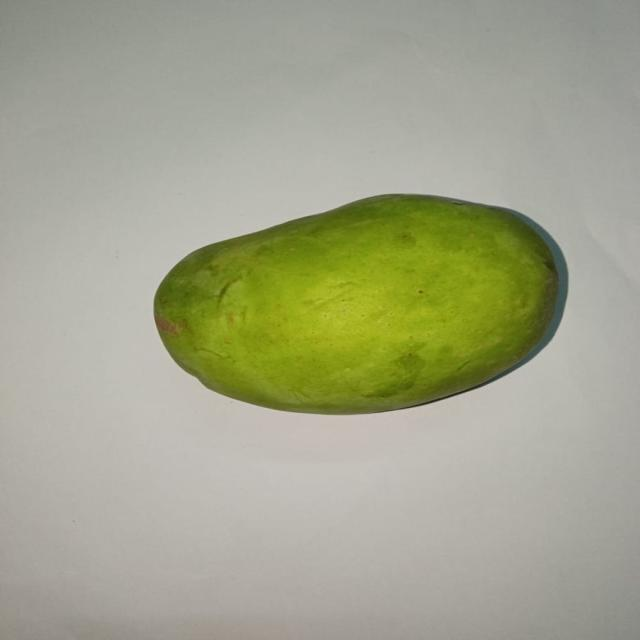fresh_mango: (154, 193, 562, 413)
